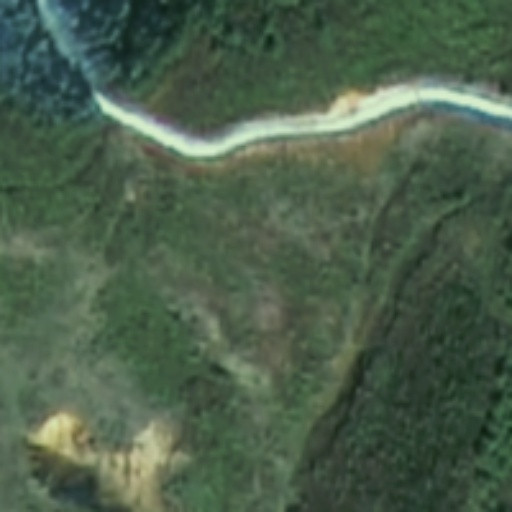landslide: (26, 412, 184, 510)
